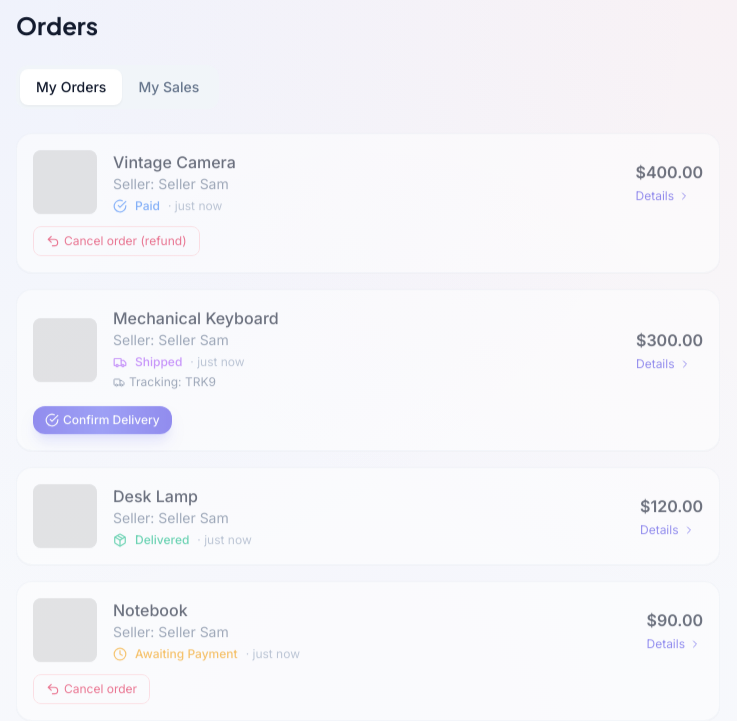
Scenario: Orders list › switches to My Sales and loads sales via mySales
Check: the text "Vintage Camera" is shown, box 113,152 -> 236,172
Step 1. Click the button "My Sales" → (169, 87), box 122,69 -> 215,105
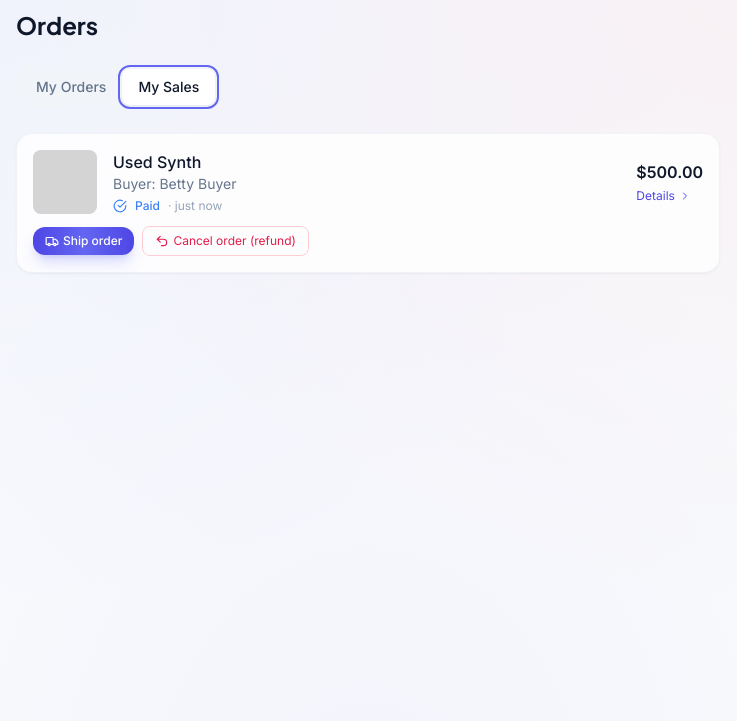
Check: the text "Used Synth" is shown, box 113,152 -> 201,172
Check: the button "Ship order" is shown, box 33,227 -> 134,255
Check: the button "Confirm Delivery" is gone
